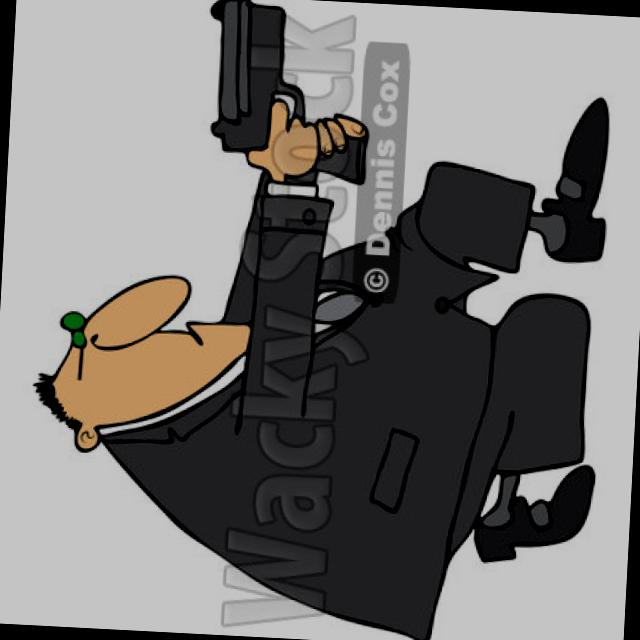handgun: (200, 2, 372, 183)
